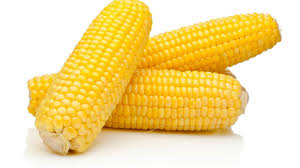milho: (25, 16, 272, 151)
